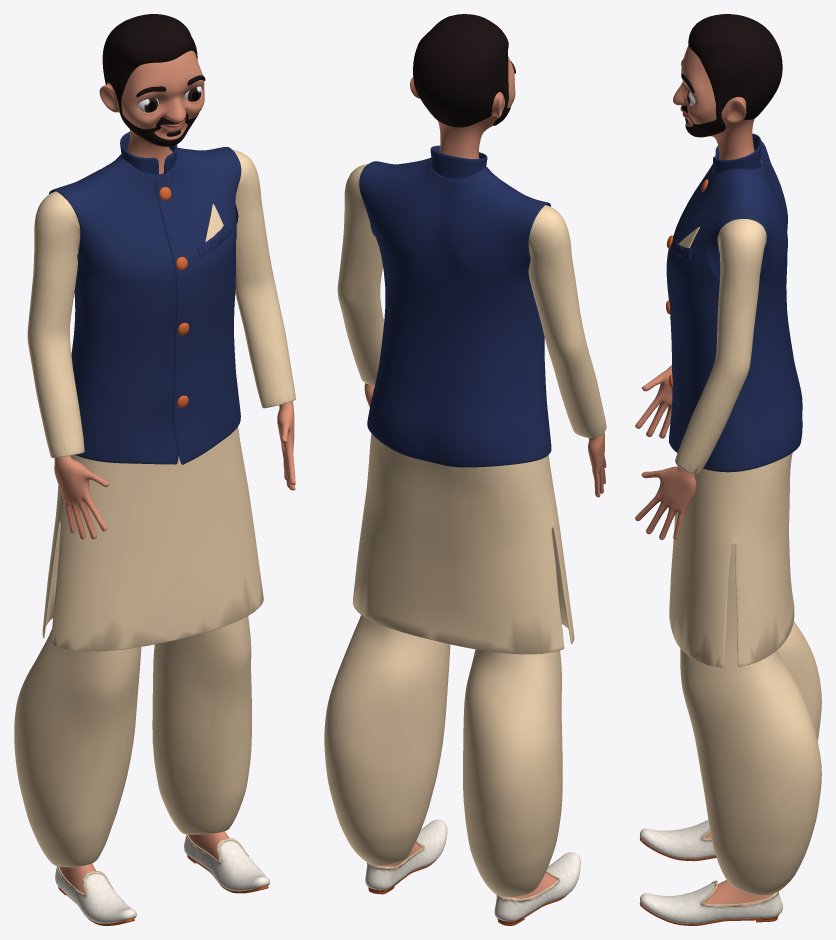
Rendered from guest.glb.
3 views of the same model, side by side, from view 1: azimuth 30°, elevation 25°; view 2: azimuth 150°, elevation 25°; view 3: azimuth 270°, elevation 25° (orthographic).
Visible parts, largest first — view 1: web_guest_male_outfit, web_indian_guest, web_def_hairstyle; view 2: web_guest_male_outfit, web_def_hairstyle, web_indian_guest; view 3: web_guest_male_outfit, web_indian_guest, web_def_hairstyle.
Part boxes in pixels (<box>): web_guest_male_outfit: <box>14,131,295,867</box>; web_indian_guest: <box>54,50,295,925</box>; web_def_hairstyle: <box>102,14,198,146</box>; web_guest_male_outfit: <box>324,145,606,897</box>; web_def_hairstyle: <box>413,14,510,127</box>; web_indian_guest: <box>364,56,606,925</box>; web_guest_male_outfit: <box>666,133,821,895</box>; web_indian_guest: <box>635,45,782,925</box>; web_def_hairstyle: <box>681,14,782,137</box>.
Size of the model in its own units: 0.4824 by 1.63 by 0.3187.
Materials: 1 (1 with a texture image).
